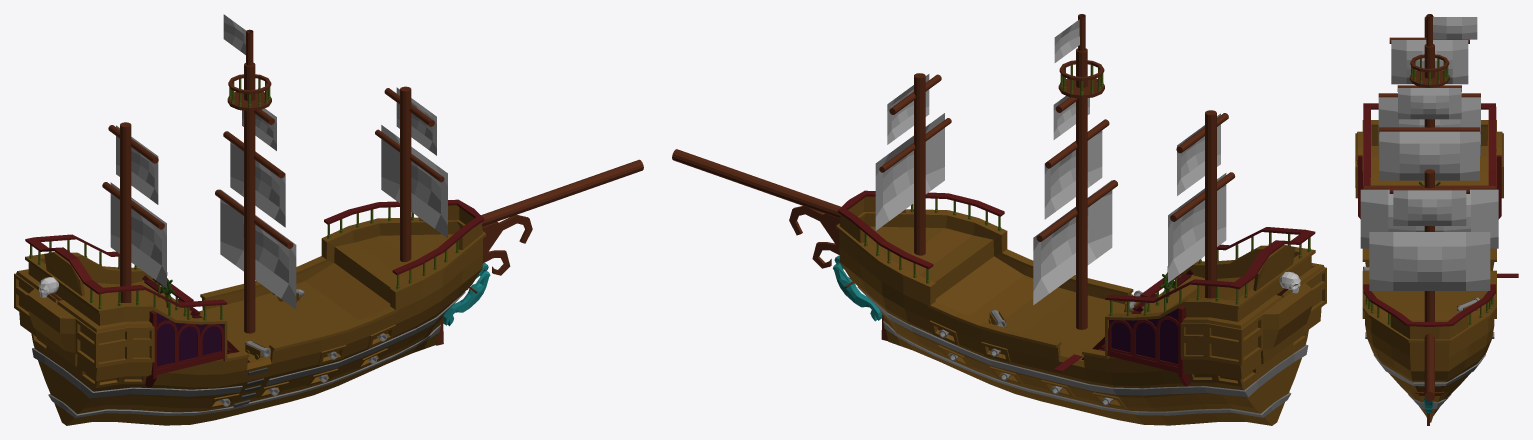
The model's file is Mesh_Ship.fbx.
3 views of the same model, side by side, from view 1: azimuth 30°, elevation 25°; view 2: azimuth 150°, elevation 25°; view 3: azimuth 270°, elevation 25° (orthographic). The views are drawn at different scales.
Visible parts, largest first — view 1: Mesh_ShipBody, Mesh_Flag, Mesh_Wood, Mesh_Reinforcement, Mesh_Planks, Mesh_Verdeckung, Mesh_Pilars, Mesh_Windows, Mesh_Canons; view 2: Mesh_ShipBody, Mesh_Flag, Mesh_Wood, Mesh_Reinforcement, Mesh_Planks, Mesh_Verdeckung, Mesh_Pilars, Mesh_Windows, Mesh_Canons; view 3: Mesh_Flag, Mesh_ShipBody, Mesh_Wood, Mesh_Planks, Mesh_Reinforcement, Mesh_Pilars, Mesh_side, Mesh_Canons.
Part boxes in pixels (x1,y1,x2,y2): Mesh_ShipBody: (14,205,486,425); Mesh_Flag: (110,14,447,309); Mesh_Wood: (50,29,643,345); Mesh_Reinforcement: (32,292,465,417); Mesh_Planks: (25,199,484,314); Mesh_Verdeckung: (156,312,223,366); Mesh_Pilars: (29,78,459,320); Mesh_Windows: (157,320,224,374); Mesh_Canons: (218,289,386,406); Mesh_ShipBody: (836,196,1326,425); Mesh_Flag: (875,19,1226,304); Mesh_Wood: (672,14,1288,340); Mesh_Reinforcement: (857,287,1308,417); Mesh_Planks: (838,190,1315,371); Mesh_Verdeckung: (1109,308,1178,364); Mesh_Pilars: (864,65,1310,316); Mesh_Windows: (1107,316,1178,372); Mesh_Canons: (939,290,1142,405); Mesh_Flag: (1360,17,1498,290); Mesh_ShipBody: (1355,120,1503,422); Mesh_Wood: (1364,14,1495,425); Mesh_Planks: (1363,103,1518,326); Mesh_Reinforcement: (1373,353,1485,409); Mesh_Pilars: (1365,58,1493,324); Mesh_side: (1358,155,1501,219); Mesh_Canons: (1363,266,1494,338).
Size of the model in its own units: 877 by 526 by 227.
1 material, 1 textured.
